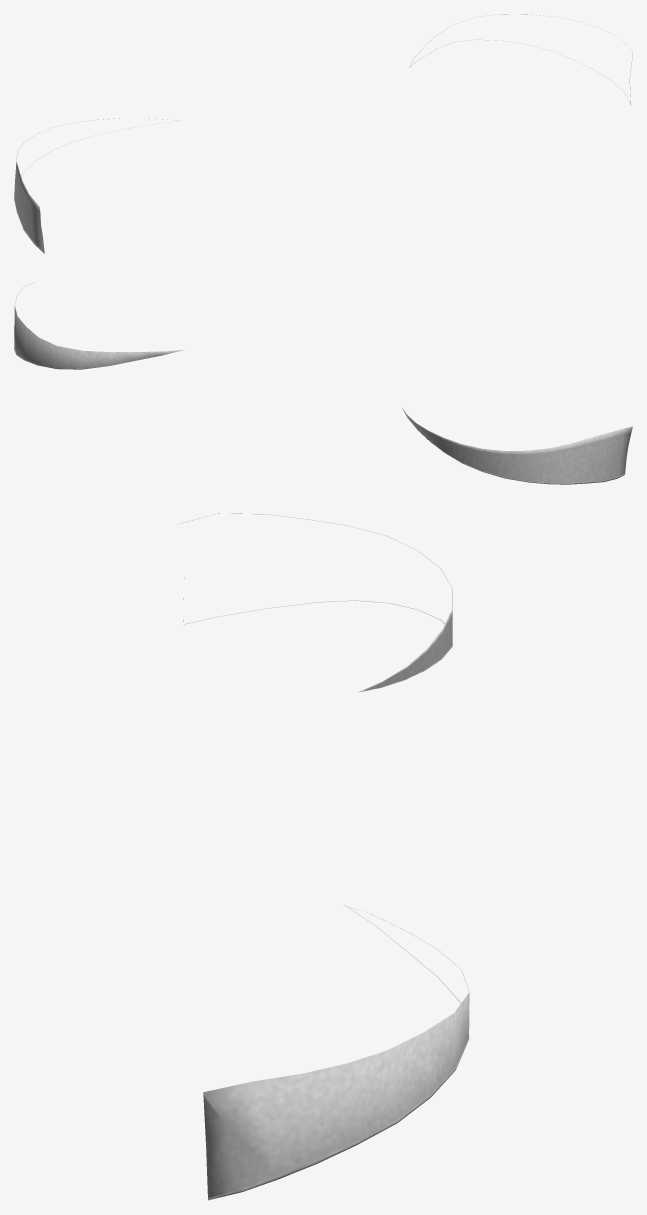
Rendered from COP_Back.glb.
The picture shows the model from 3 angles, top to bottom: view 1: azimuth 30°, elevation 25°; view 2: azimuth 150°, elevation 25°; view 3: azimuth 270°, elevation 25°; orthographic projection. The views are drawn at different scales.
Visible parts, largest first — view 1: COP_Back1, Rope1; view 2: COP_Back1, Rope1; view 3: COP_Back1, Rope1.
Boxes of the visible parts, x1=… form: COP_Back1: x1=14, y1=14, x2=632, y2=253; Rope1: x1=14, y1=39, x2=631, y2=252; COP_Back1: x1=14, y1=284, x2=632, y2=484; Rope1: x1=14, y1=347, x2=625, y2=483; COP_Back1: x1=183, y1=513, x2=469, y2=1200; Rope1: x1=183, y1=600, x2=469, y2=1199.
Bounding box in the file's own units: 0.7401 × 0.0733 × 0.1578.
2 materials, 2 textured.
